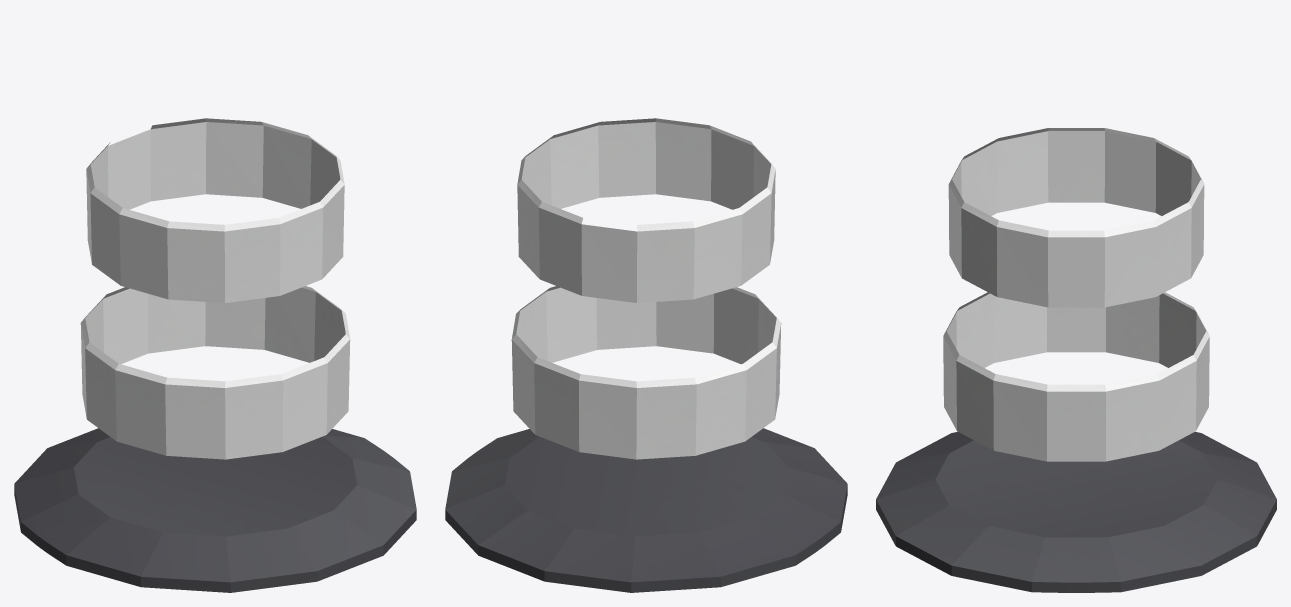
Rendered from traffic_barell_1.dae.
3 renders of one model, left to right at view 1: azimuth 30°, elevation 25°; view 2: azimuth 150°, elevation 25°; view 3: azimuth 270°, elevation 25°, orthographic.
Parts seen in each view (by area): view 1: traffic_barell_1; view 2: traffic_barell_1; view 3: traffic_barell_1.
Part boxes in pixels (<box>): traffic_barell_1: <box>14,118,416,592</box>; traffic_barell_1: <box>445,118,847,592</box>; traffic_barell_1: <box>876,128,1276,592</box>.
Size of the model in its own units: 1.77 by 1.8 by 2.32.
1 material, 1 textured.
